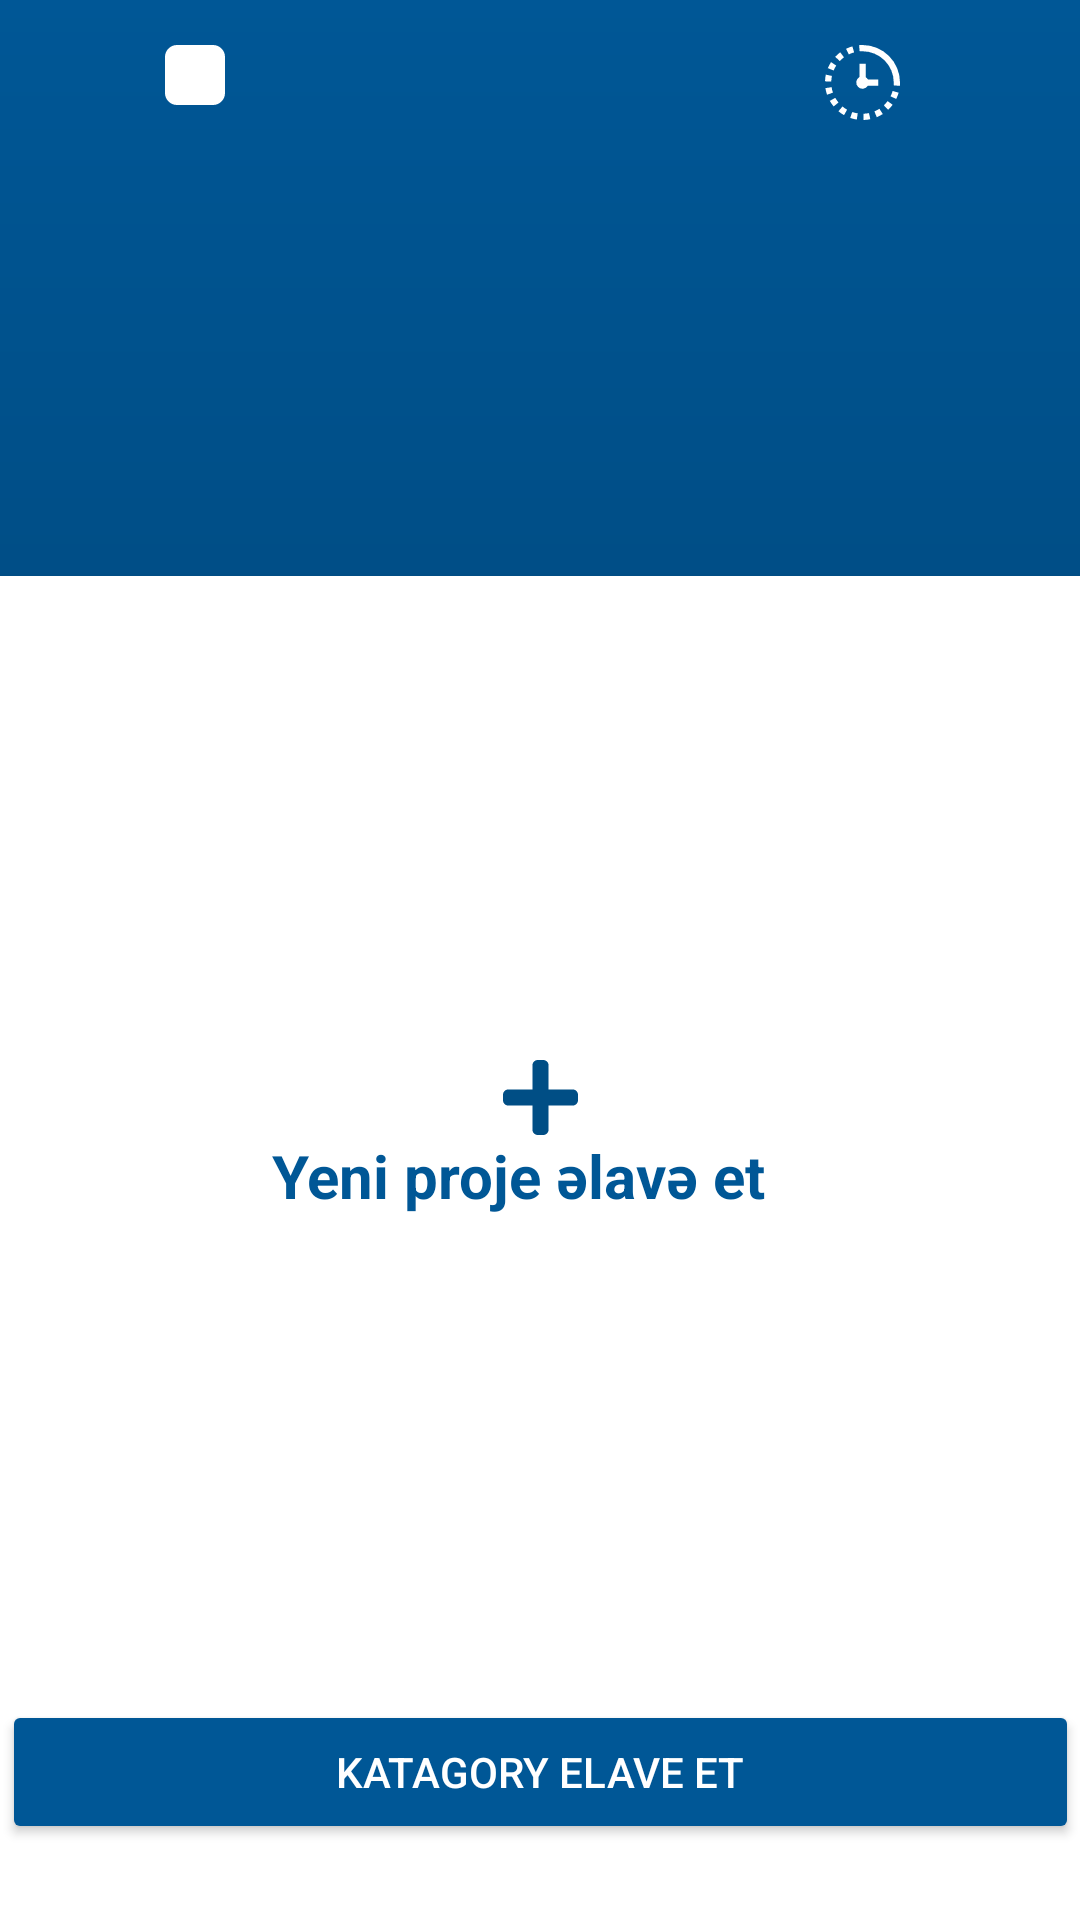

Screen size 1080w x 1920h. Icon name, then its center in pixels as [x,y]:
time quarter past: [862,82]
